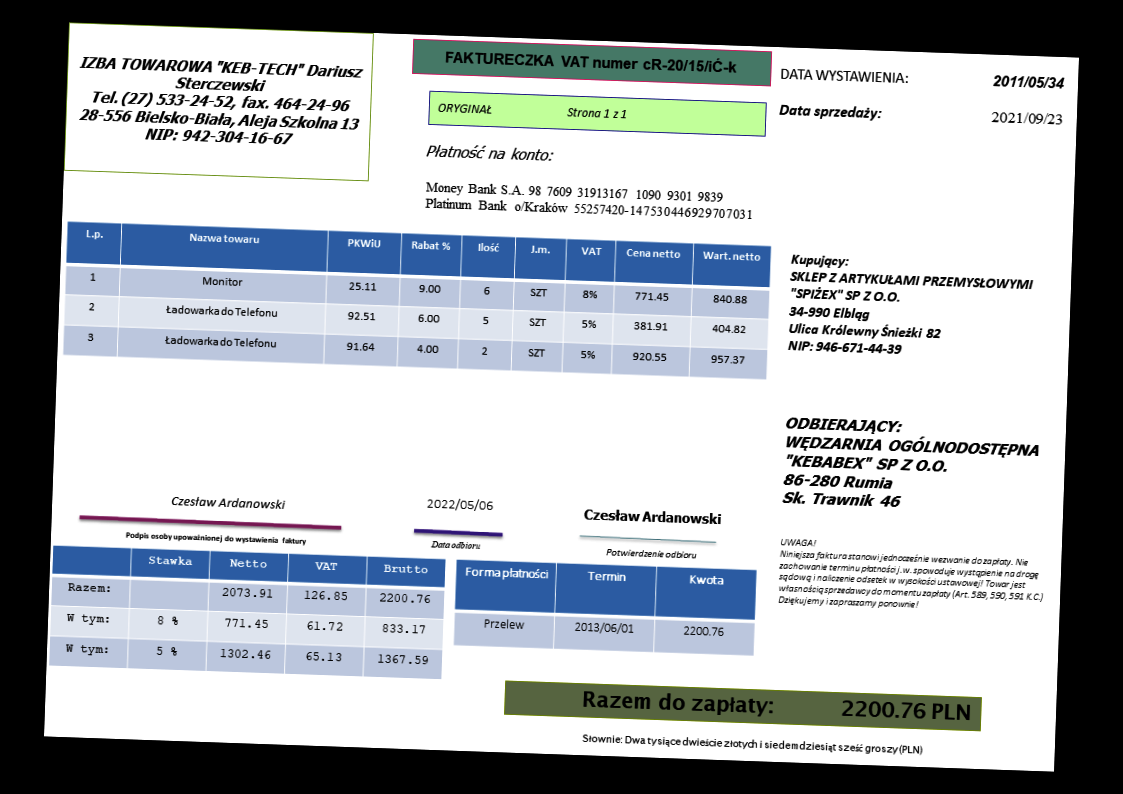Table: (61, 218, 774, 382), (47, 543, 447, 681), (451, 556, 759, 658)
TextBox: (74, 50, 365, 152), (784, 249, 1039, 363), (780, 414, 1044, 516), (775, 533, 1048, 617), (579, 687, 974, 727), (421, 177, 757, 223), (579, 730, 925, 759), (443, 46, 740, 76), (434, 97, 629, 123), (121, 528, 310, 548), (580, 504, 725, 528), (423, 140, 556, 165), (777, 63, 910, 87), (169, 490, 288, 513), (777, 100, 884, 124), (602, 545, 699, 562), (991, 71, 1068, 92), (988, 108, 1065, 128), (425, 495, 495, 514), (427, 537, 483, 552)
